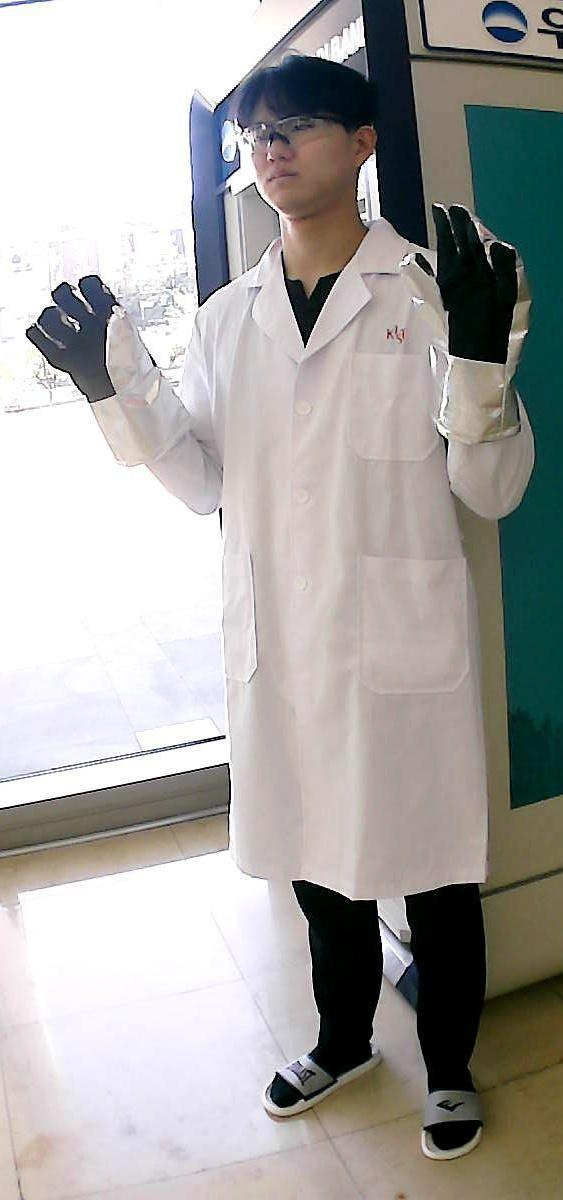lab_coat: (199, 280, 442, 898)
